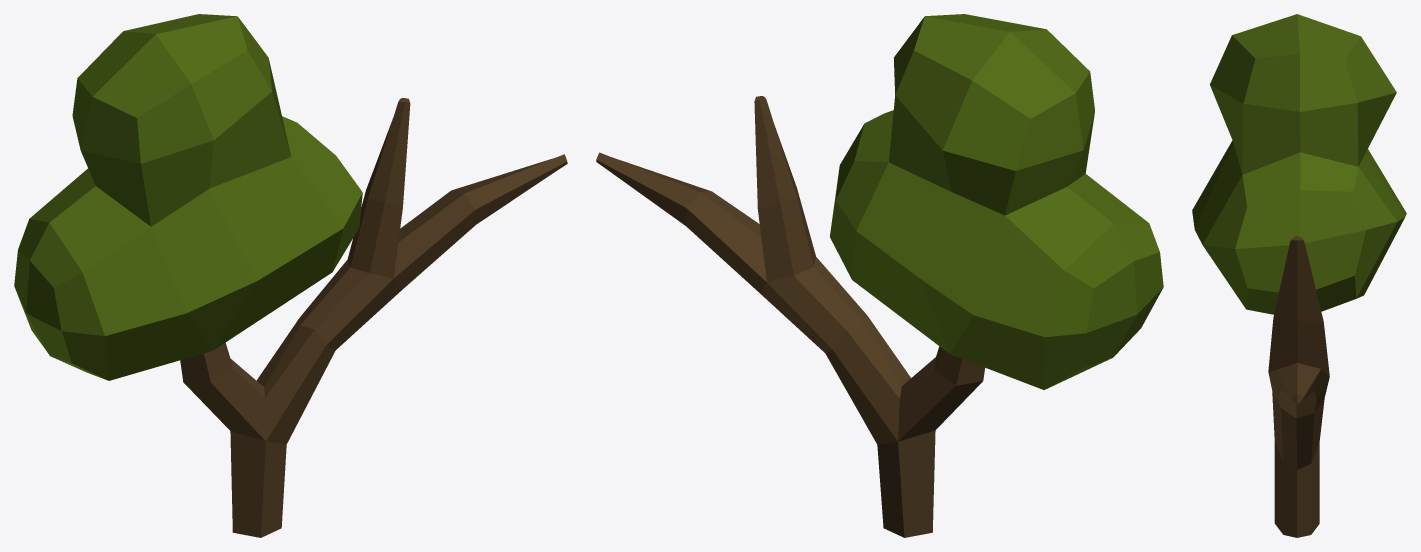
Rendered from TreesAndBushes_042.fbx.
3 renders of one model, left to right at view 1: azimuth 30°, elevation 25°; view 2: azimuth 150°, elevation 25°; view 3: azimuth 270°, elevation 25°, orthographic. The views are drawn at different scales.
Parts seen in each view (by area): view 1: TreesAndBushes_042; view 2: TreesAndBushes_042; view 3: TreesAndBushes_042.
Boxes of the visible parts, box(x1,y1,x2,y2) form: TreesAndBushes_042: box(14, 14, 567, 537); TreesAndBushes_042: box(596, 14, 1163, 537); TreesAndBushes_042: box(1192, 14, 1406, 537).
Size of the model in its own units: 49.73 by 45.52 by 18.91.
